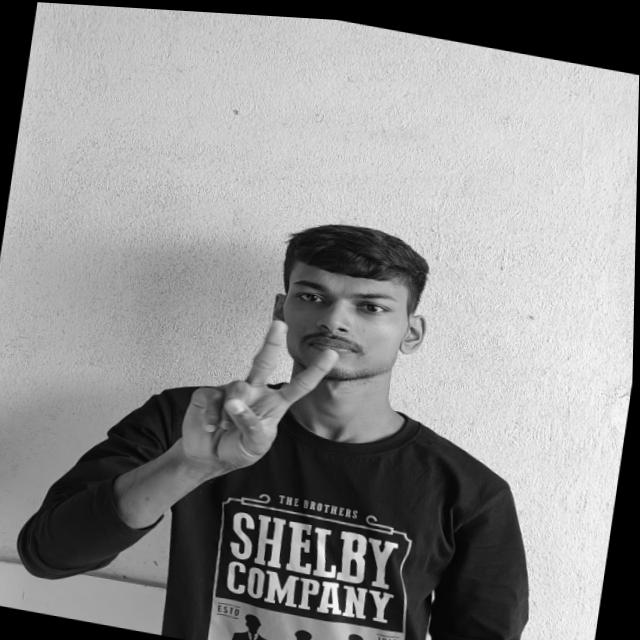Victory: (177, 301, 347, 490)
